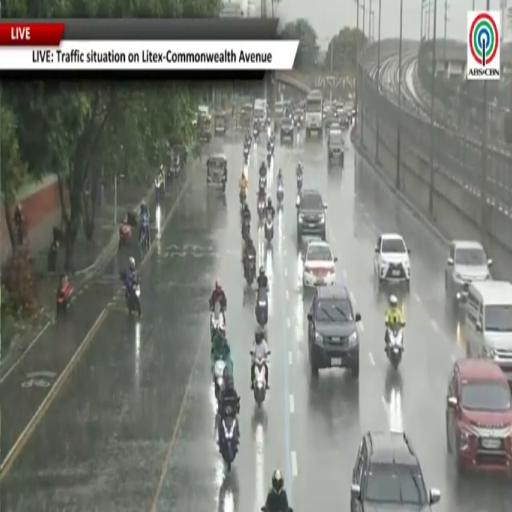car: (446, 359, 511, 475), (351, 431, 440, 511), (308, 284, 360, 378), (445, 240, 492, 306), (374, 233, 410, 289), (303, 240, 337, 287), (297, 189, 326, 242), (328, 124, 344, 167), (280, 118, 293, 142), (325, 115, 337, 132), (339, 112, 350, 130)
jeepney: (207, 153, 227, 191), (240, 104, 252, 129), (214, 112, 226, 135)
motorcycle: (219, 411, 239, 472), (386, 326, 404, 370), (253, 358, 268, 406), (123, 278, 141, 316), (210, 301, 225, 340), (57, 281, 73, 315), (213, 360, 226, 401), (256, 287, 268, 327), (244, 254, 256, 286), (119, 223, 131, 248), (140, 217, 149, 250), (265, 213, 273, 243), (155, 179, 164, 202), (257, 195, 266, 218), (242, 218, 250, 241), (277, 182, 283, 207), (240, 187, 247, 205), (259, 174, 266, 190), (259, 166, 267, 179), (297, 174, 302, 194), (244, 146, 249, 164), (267, 151, 272, 167), (253, 127, 258, 143), (295, 120, 301, 130), (261, 506, 272, 511)
truck: (305, 90, 323, 138), (254, 99, 266, 125)
